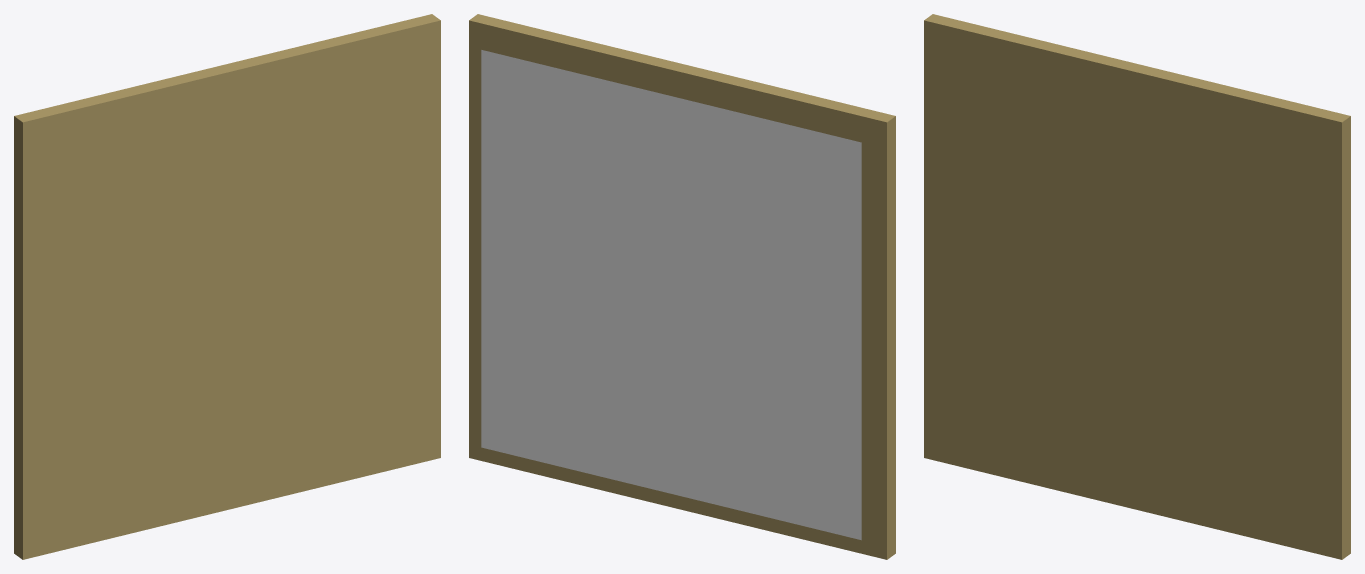
File: painting_landscape.glb
The picture shows the model from 3 angles, left to right: view 1: azimuth 30°, elevation 25°; view 2: azimuth 150°, elevation 25°; view 3: azimuth 330°, elevation 25°; orthographic projection.
Parts seen in each view (by area): view 1: Frame; view 2: Picture, Frame; view 3: Frame.
Boxes of the visible parts, box(x1,y1,x2,y2) form: Frame: box(14, 14, 440, 559); Picture: box(481, 50, 861, 540); Frame: box(469, 14, 895, 559); Frame: box(924, 14, 1350, 559).
Bounding box in the file's own units: 1.1 × 1.1 × 0.07.
